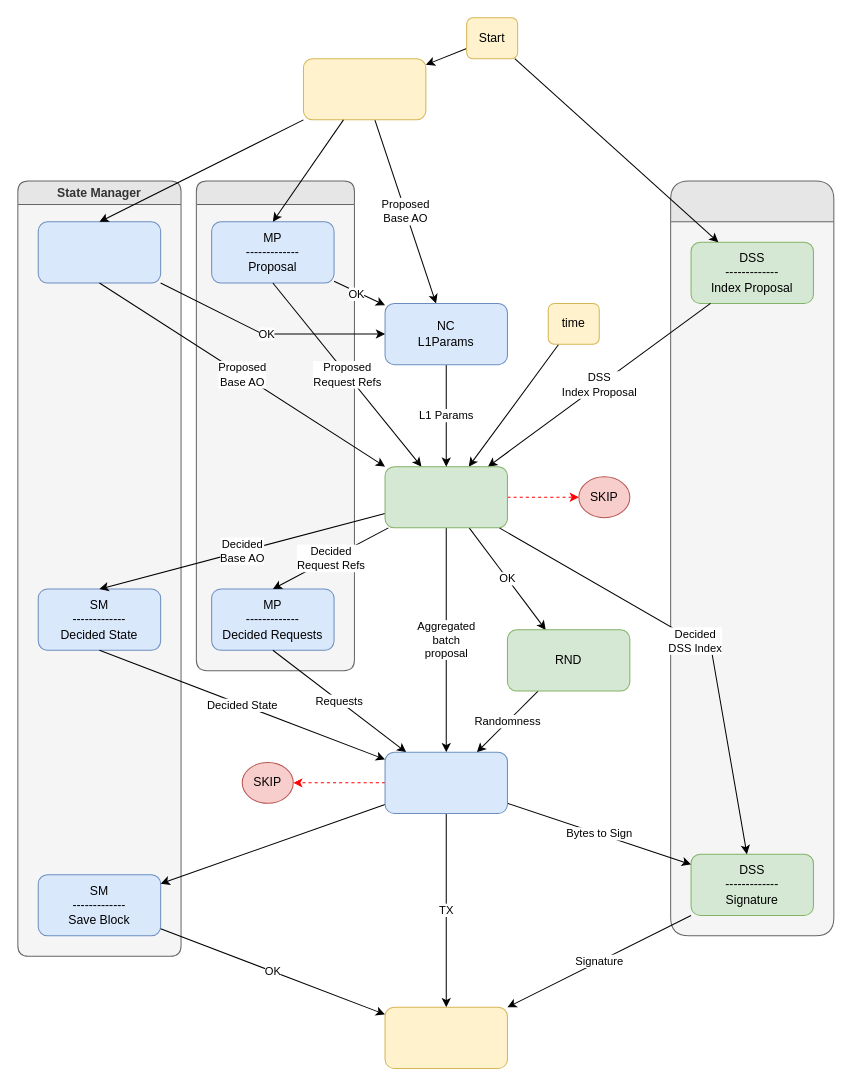
Some shapes in this 852 by 1086 pixel diagram are drawn without their labels. The shapes that lost their labels are listed below. From the top down, each one's box as (x1, y1, x2, y2) in pixels, then its label:
(302, 58, 426, 120): Input proposed base AO
(37, 221, 161, 283): SM ------------- Proposal
(195, 180, 354, 671): Mempool
(384, 466, 507, 528): ACS
(670, 180, 834, 936): Distributed Schnorr Signature
(384, 751, 507, 813): VM
(384, 1006, 507, 1068): TX Signed
